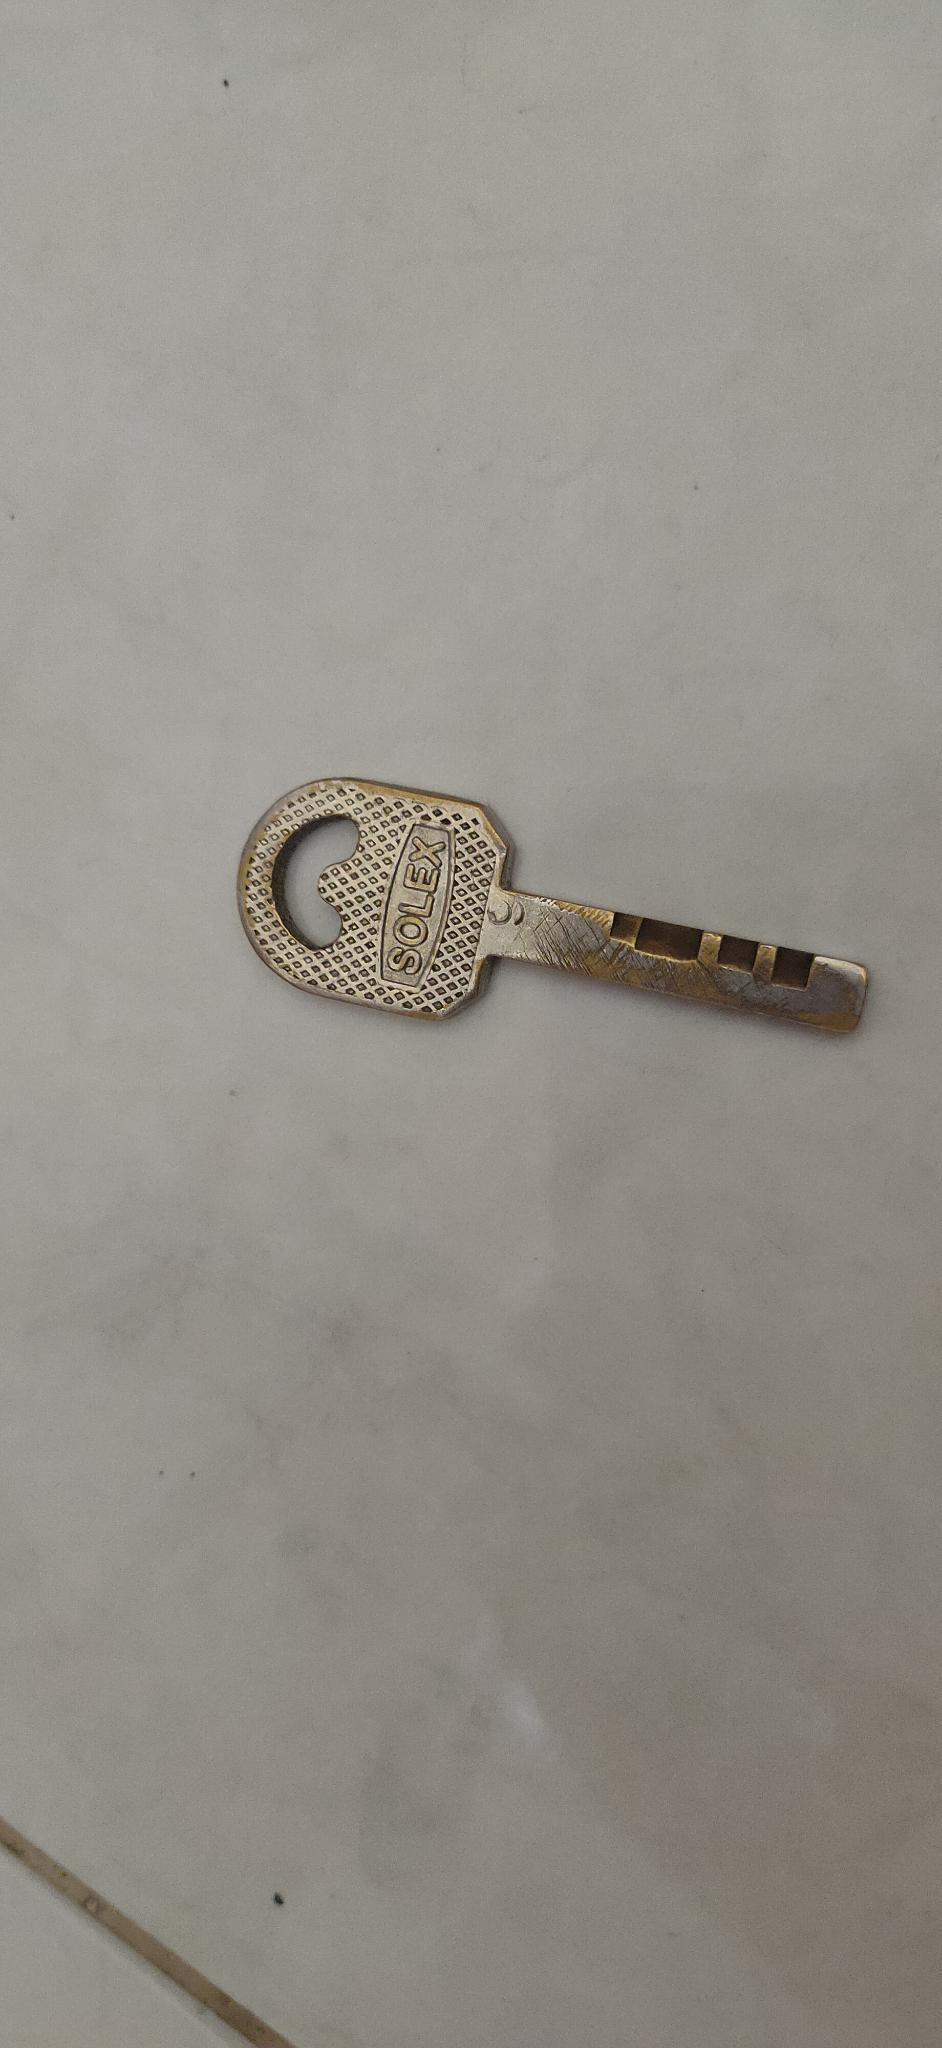keys: (206, 724, 905, 1101)
